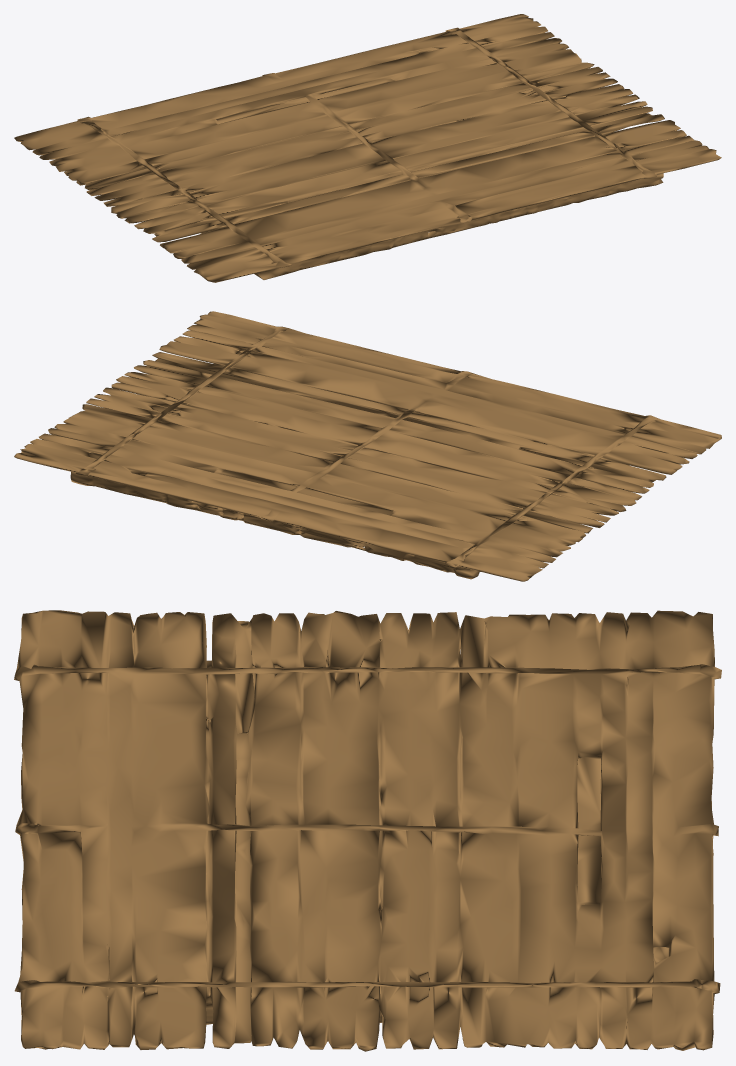
Rendered from MaintenanceOrderRefined.fbx.
3 views of the same model, one above another, from view 1: azimuth 30°, elevation 25°; view 2: azimuth 150°, elevation 25°; view 3: azimuth 270°, elevation 25° (orthographic). The views are drawn at different scales.
Parts seen in each view (by area): view 1: MaintenanceOrderRefined; view 2: MaintenanceOrderRefined; view 3: MaintenanceOrderRefined.
Part boxes in pixels (bbox=[...]): MaintenanceOrderRefined: bbox=[14, 14, 721, 282]; MaintenanceOrderRefined: bbox=[14, 311, 721, 581]; MaintenanceOrderRefined: bbox=[14, 610, 721, 1051].
Size of the model in its own units: 50 by 1.6 by 34.
